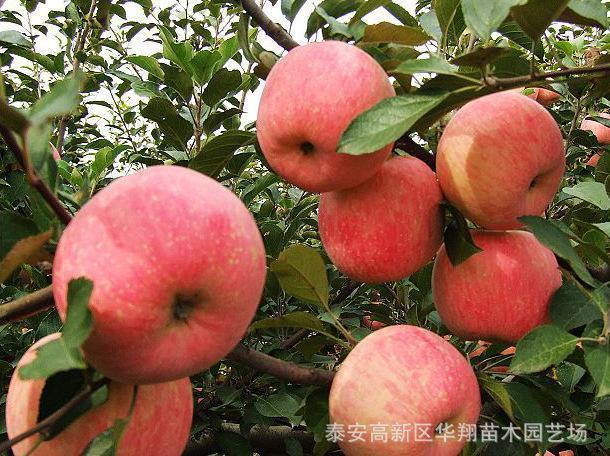apple: (51, 164, 265, 385), (5, 331, 194, 456), (257, 40, 394, 190), (325, 325, 478, 456), (438, 90, 568, 232), (315, 154, 442, 287), (431, 227, 561, 342)
